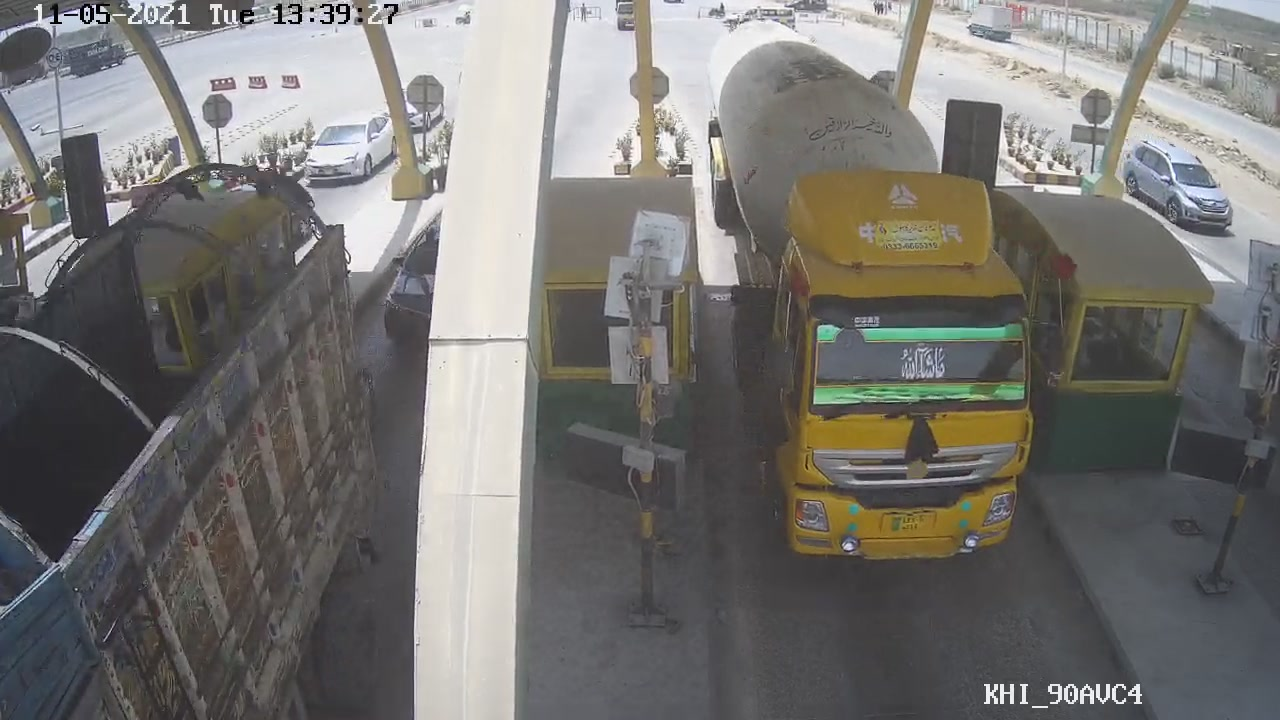F6: (701, 70, 1047, 573)
